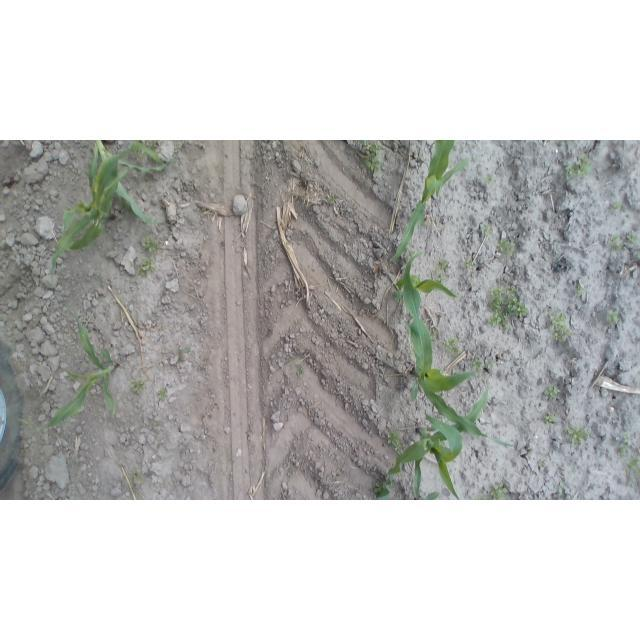Maize: (399, 246, 518, 448), (45, 141, 168, 292), (376, 387, 488, 500), (389, 140, 475, 262), (41, 306, 123, 431), (91, 141, 178, 172), (389, 272, 460, 309)
Weeds: (485, 282, 527, 333), (548, 311, 573, 343), (361, 140, 384, 174), (565, 155, 592, 181), (565, 424, 589, 445), (386, 429, 404, 455), (495, 237, 517, 257), (442, 337, 465, 356), (484, 483, 511, 499), (605, 308, 623, 328), (129, 378, 147, 397), (142, 235, 161, 253), (136, 258, 156, 275), (618, 434, 631, 459), (606, 234, 624, 252), (175, 346, 191, 364), (543, 384, 559, 401), (435, 259, 450, 277), (555, 481, 569, 500), (371, 481, 387, 496), (626, 457, 638, 476), (610, 200, 627, 213), (543, 411, 558, 425), (574, 280, 586, 297), (480, 222, 493, 237), (294, 363, 307, 377), (471, 358, 483, 373), (132, 471, 144, 485), (487, 358, 501, 370), (157, 388, 168, 402), (462, 259, 476, 270), (627, 233, 638, 246), (485, 172, 495, 185), (327, 192, 337, 205), (475, 491, 491, 499), (284, 354, 296, 364), (432, 326, 441, 339), (149, 422, 159, 431), (538, 460, 547, 469)
